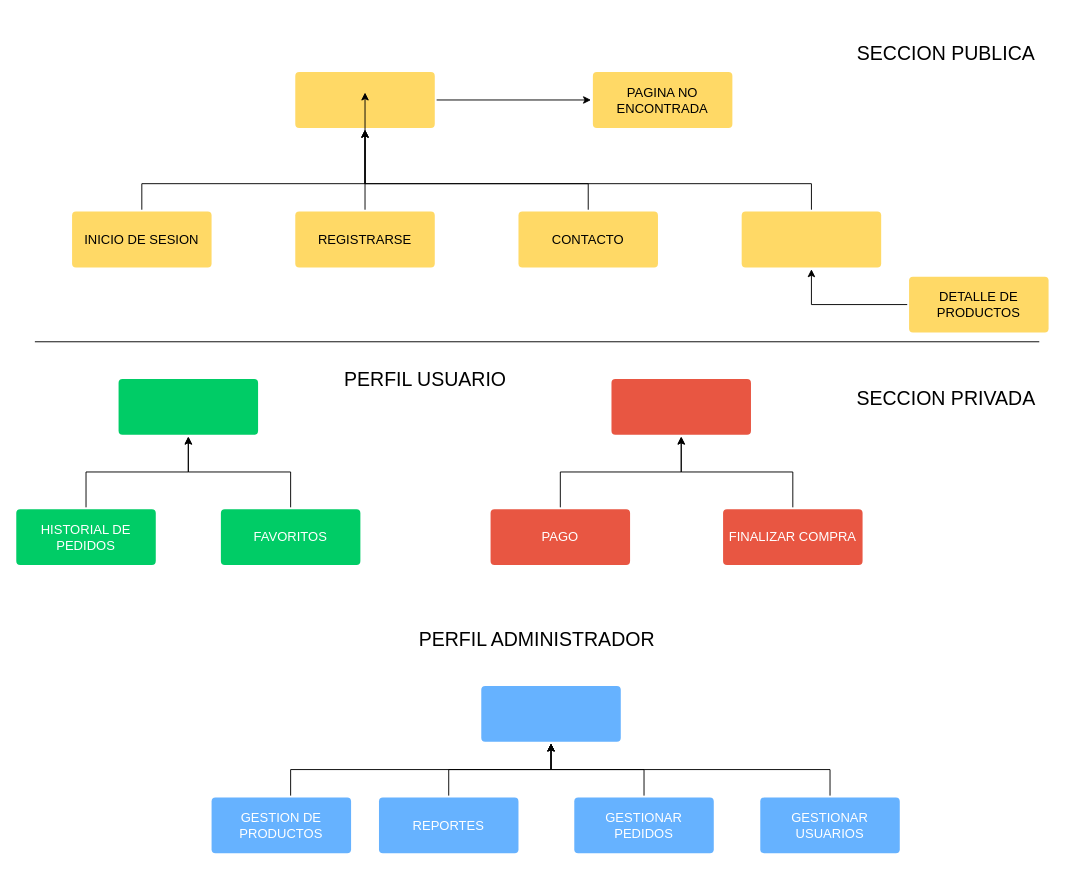
This 1083x869 diagram has some shape labels left out. Each missing label, with the centre of its shape:
"CARRITO DE COMPRAS" goes at point (681, 406).
"INICIO" goes at point (364, 99).
"PANEL DE ADMINISTRACION" goes at point (550, 713).
"PERFIL" goes at point (188, 406).
"PRODUCTOS" goes at point (811, 239).
